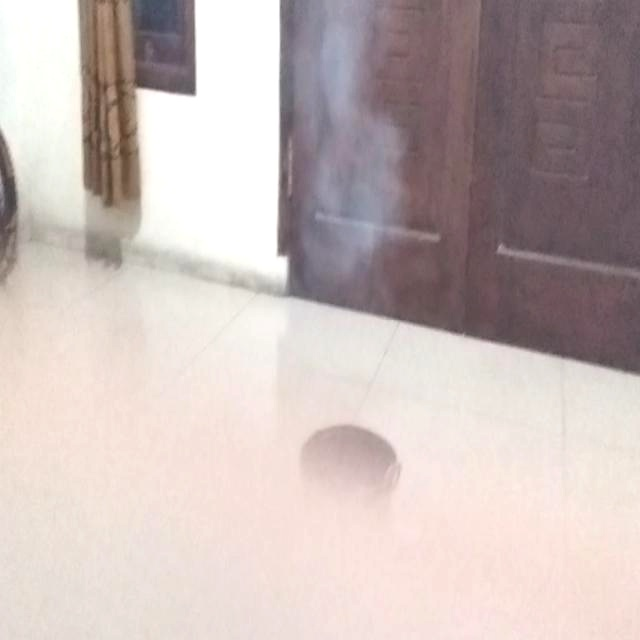smoke: (193, 64, 409, 330)
